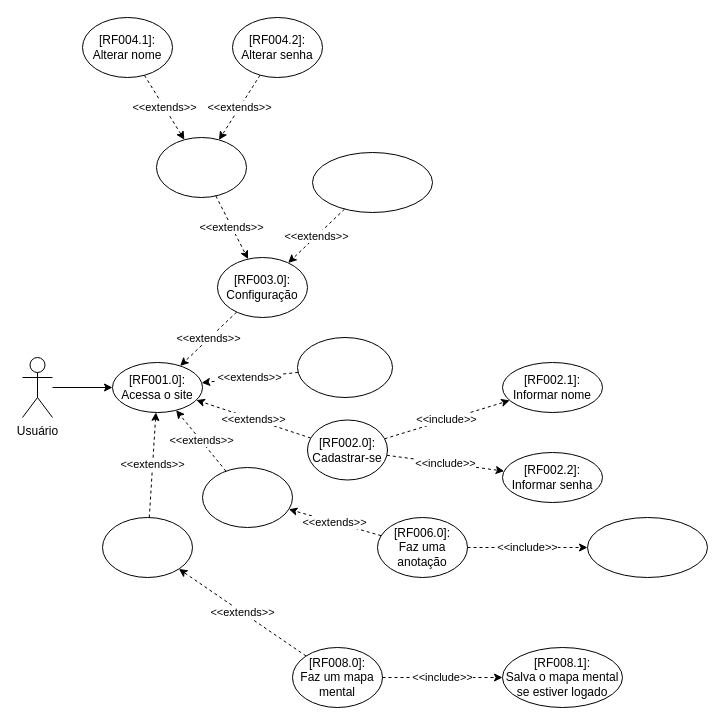
Image size: 725x725. Some labels were removed from this diagram. The shapes that lost their labels are listed below. From the top down, each one's centre as x and y in pixels, then its label:
the point at 201,167: [RF004.0]: Fazer alteração no usuário
the point at 372,182: [RF003.1]: Muda o tamanho da letra
the point at 344,367: [RF001.1]: Altera a cor do site
the point at 247,497: [RF005.0]: Acessa o timer
the point at 147,547: [RF007.0]: Acessa o Mapa Mental
the point at 647,547: [RF006.1]: Salva a anotação se estiver logado
